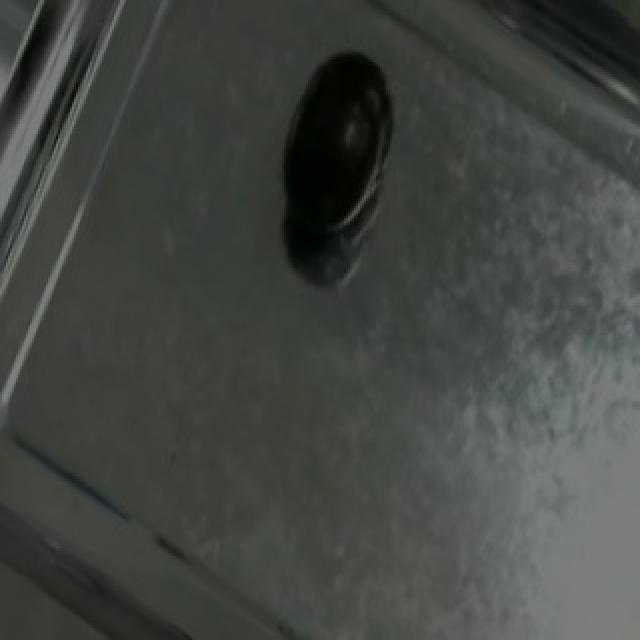Fruit: (266, 37, 406, 241)
